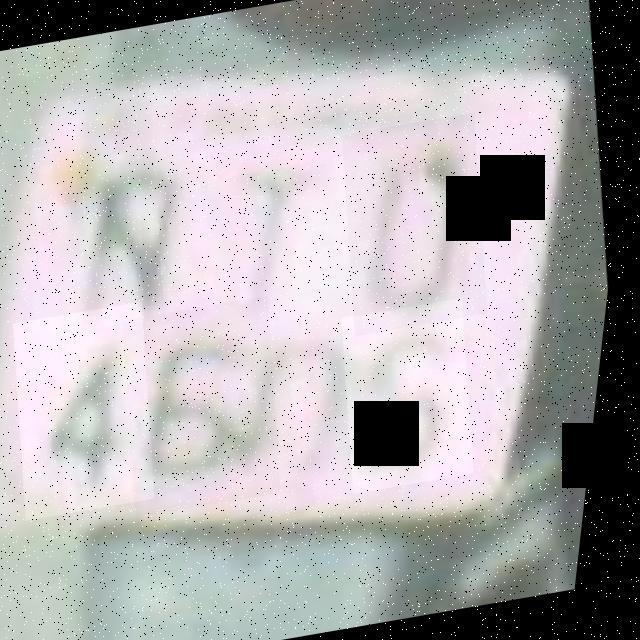4: (3, 301, 183, 520)
5: (333, 297, 500, 495)
6: (113, 296, 309, 518)
O: (327, 112, 512, 336)
T: (176, 130, 352, 334)
